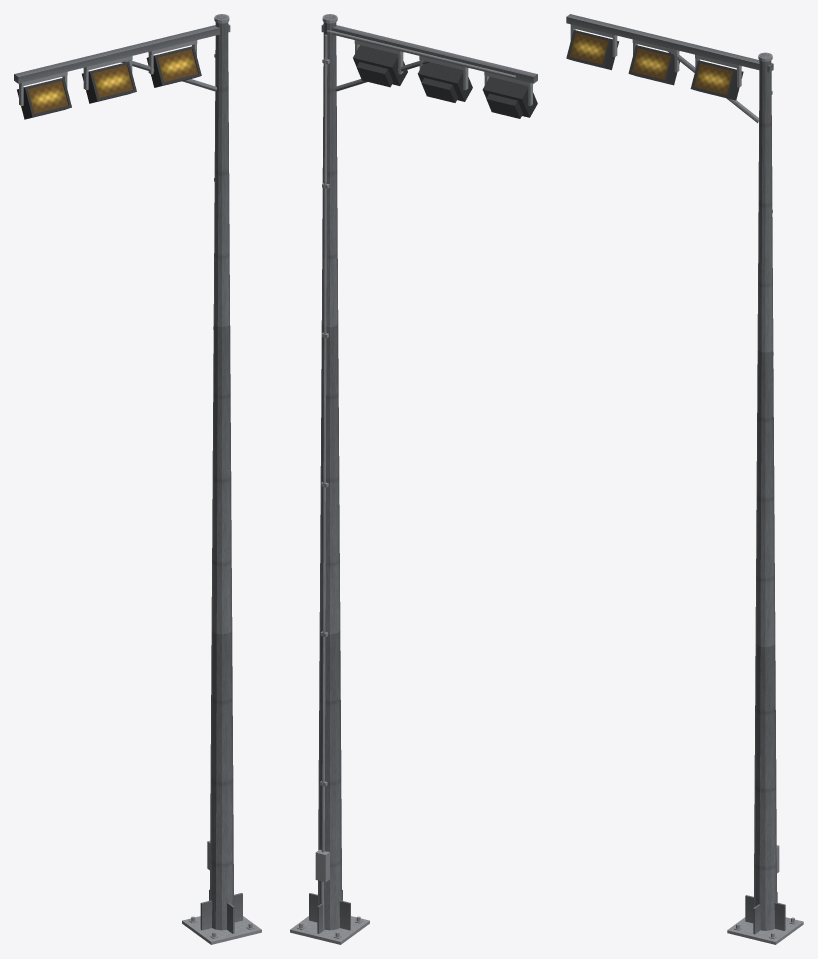
Rendered from indian_border_floodlight_mast.glb.
3 renders of one model, left to right at view 1: azimuth 30°, elevation 25°; view 2: azimuth 150°, elevation 25°; view 3: azimuth 330°, elevation 25°, orthographic. The views are drawn at different scales.
Visible parts, largest first — view 1: Floodlight_Mast_Structure, glass (×3); view 2: Floodlight_Mast_Structure; view 3: Floodlight_Mast_Structure, glass (×3).
Part boxes in pixels (x1,y1,x2,y2): Floodlight_Mast_Structure: (14, 14, 261, 944); glass (×3): (28, 49, 198, 113); Floodlight_Mast_Structure: (290, 14, 537, 944); Floodlight_Mast_Structure: (566, 14, 803, 944); glass (×3): (569, 33, 732, 94).
Bounding box in the file's own units: 2.92 × 11 × 0.64.
Materials: 1 (1 with a texture image).
